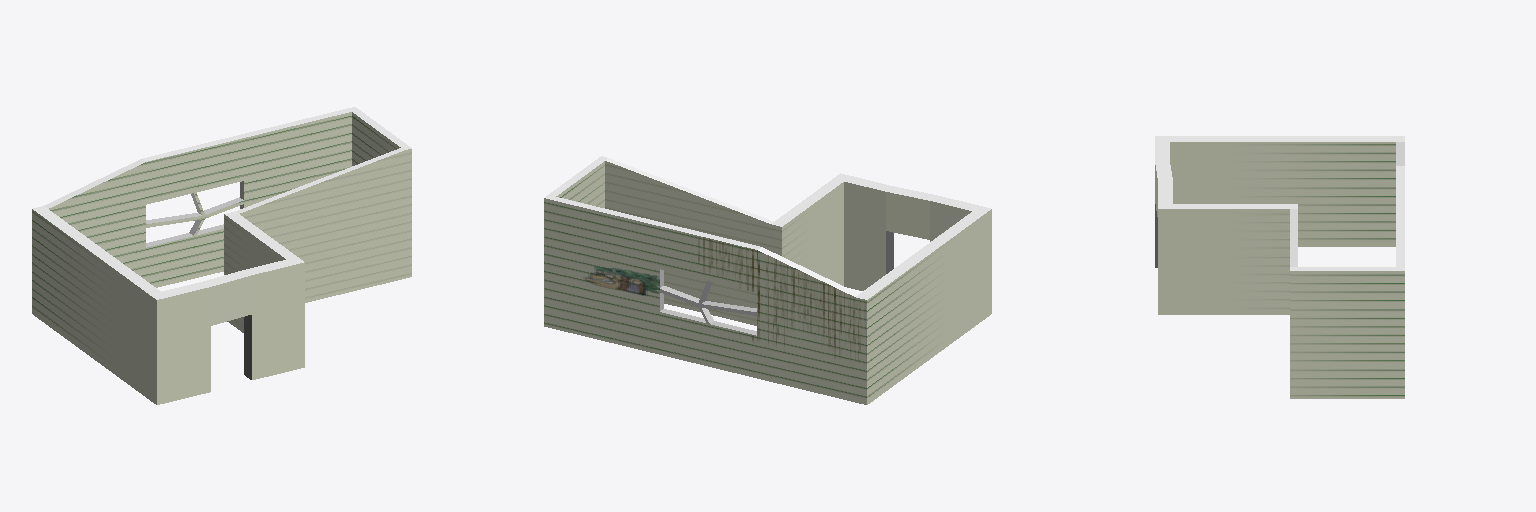
The picture shows the model from 3 angles: view 1: azimuth 30°, elevation 25°; view 2: azimuth 150°, elevation 25°; view 3: azimuth 270°, elevation 25°; orthographic projection.
Parts seen in each view (by area): view 1: ciudad_pCube168; view 2: ciudad_pCube168; view 3: ciudad_pCube168.
Boxes of the visible parts, box(x1,y1,x2,y2) form: ciudad_pCube168: box(32, 107, 411, 404); ciudad_pCube168: box(544, 156, 991, 404); ciudad_pCube168: box(1155, 136, 1404, 398).
Bounding box in the file's own units: 35.41 × 13.44 × 23.7.
Materials: 4 (2 with a texture image).